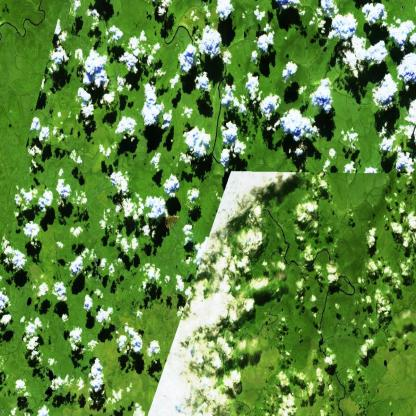fire: (162, 212, 181, 232)
